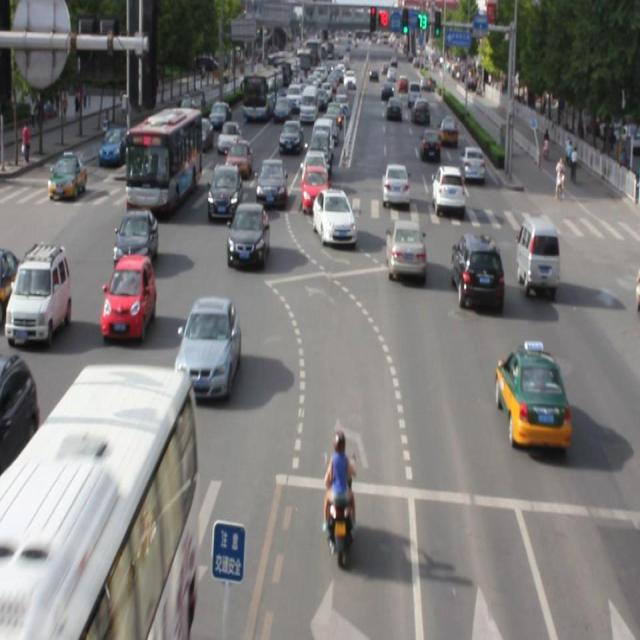car: (494, 344, 569, 454), (174, 299, 237, 396), (0, 350, 40, 478), (103, 255, 155, 338), (451, 232, 503, 314), (385, 216, 426, 283), (113, 208, 157, 270), (310, 188, 357, 246), (229, 202, 270, 266), (208, 163, 242, 220)
truck: (516, 211, 558, 301)
van: (0, 365, 196, 640)
